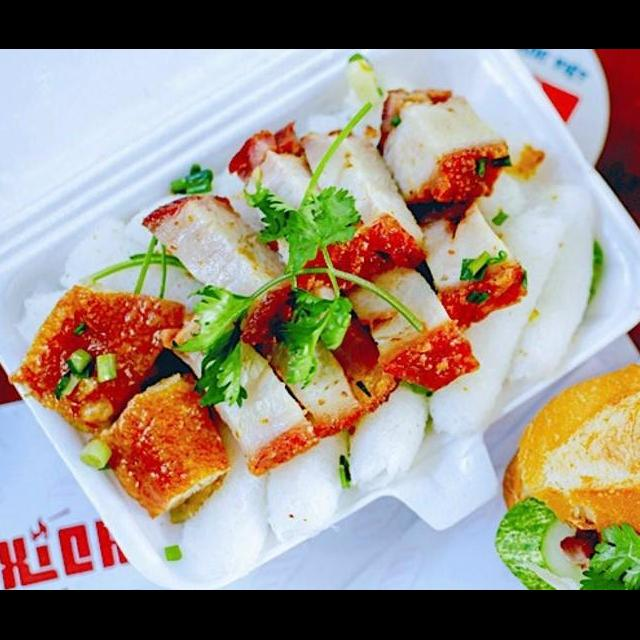banh hoi: (423, 197, 573, 448), (493, 177, 601, 390), (50, 215, 216, 322), (178, 410, 277, 584), (257, 416, 356, 546), (341, 369, 439, 496)
banh hoi heo quay: (0, 88, 526, 531)
thit heo quay: (2, 281, 194, 444), (153, 302, 324, 480), (136, 186, 301, 354), (218, 114, 367, 296), (82, 368, 235, 532), (364, 78, 512, 236), (293, 122, 432, 272), (340, 256, 486, 396), (404, 190, 531, 336), (243, 297, 368, 438)
